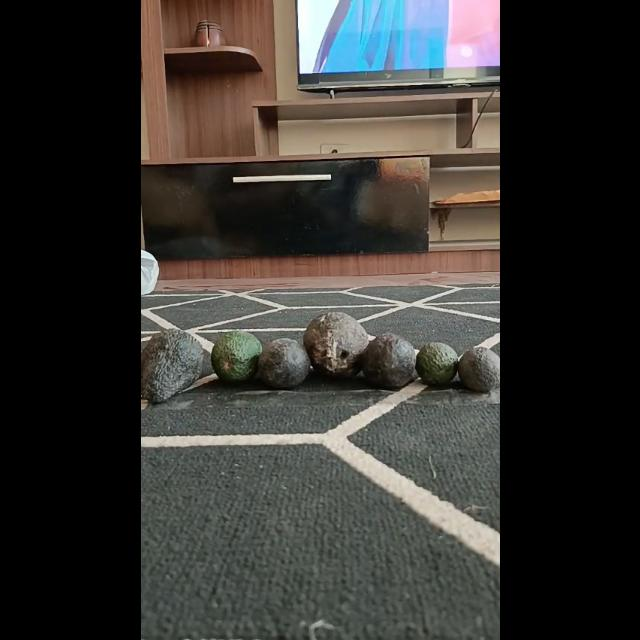Primera: (140, 327, 204, 403), (302, 311, 368, 377)
Segunda: (359, 332, 417, 388), (210, 331, 262, 384), (257, 338, 311, 388)
Tercera: (414, 341, 458, 385), (457, 346, 499, 392)
